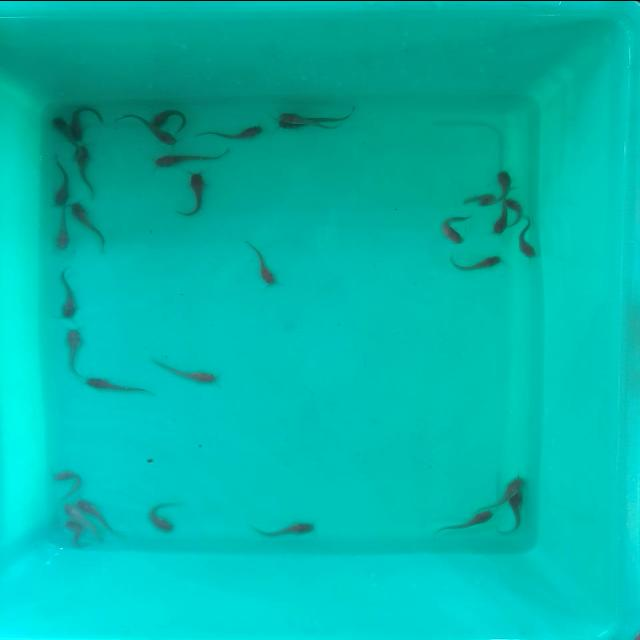lele: (275, 101, 363, 130), (272, 105, 344, 134), (70, 198, 108, 252), (248, 240, 280, 288), (432, 508, 496, 532), (156, 359, 218, 383), (74, 100, 107, 142), (153, 147, 226, 165), (74, 143, 98, 197), (115, 125, 178, 145), (180, 170, 206, 218), (85, 376, 154, 394), (197, 122, 265, 140), (57, 266, 81, 315), (246, 520, 316, 536), (64, 324, 86, 374), (484, 477, 530, 500), (502, 501, 530, 538), (77, 493, 121, 514), (146, 507, 176, 536), (56, 467, 84, 498), (452, 254, 502, 271), (518, 221, 540, 257), (441, 215, 468, 244), (54, 158, 70, 206), (53, 206, 69, 250), (153, 108, 190, 126), (54, 115, 75, 145), (508, 194, 524, 228), (493, 204, 509, 235), (461, 193, 498, 206), (64, 520, 80, 548), (497, 169, 512, 195), (64, 504, 83, 520)
